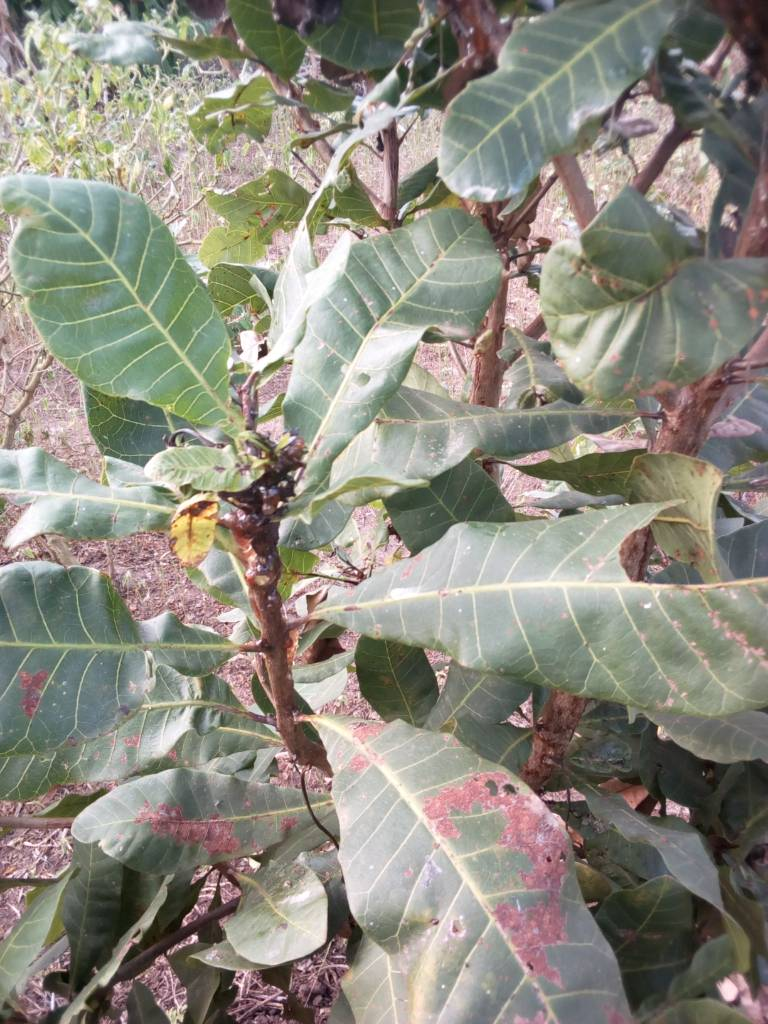Helopeltis anacardii: (330, 525, 768, 714), (1, 574, 238, 763), (438, 5, 665, 196), (536, 203, 750, 394), (1, 452, 130, 538)
